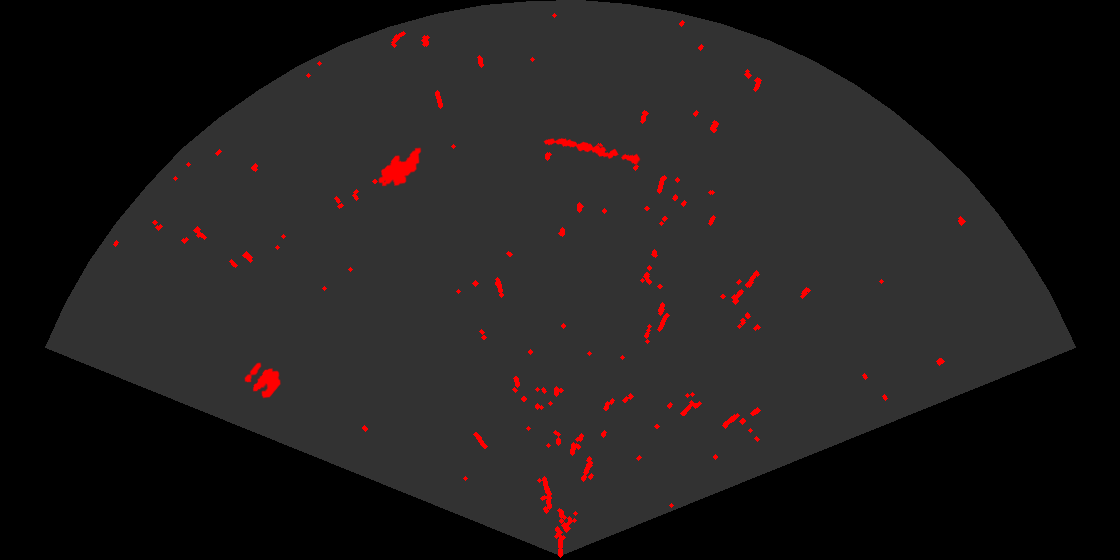AUV: (377, 146, 423, 188)
ball: (243, 361, 282, 400)
chain: (542, 137, 643, 166)
